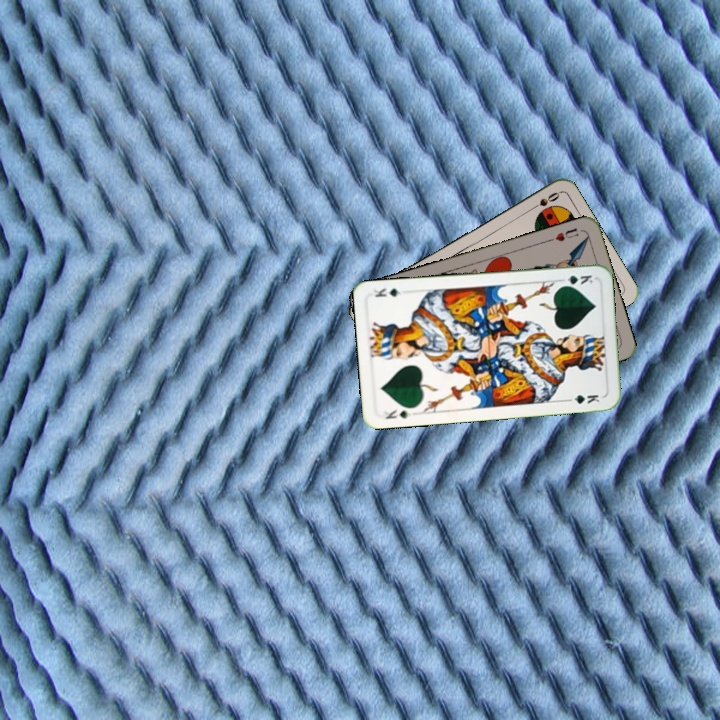GK: (556, 271, 595, 289), (381, 405, 414, 422)
HU: (544, 224, 581, 244)
SO: (525, 188, 562, 214)
